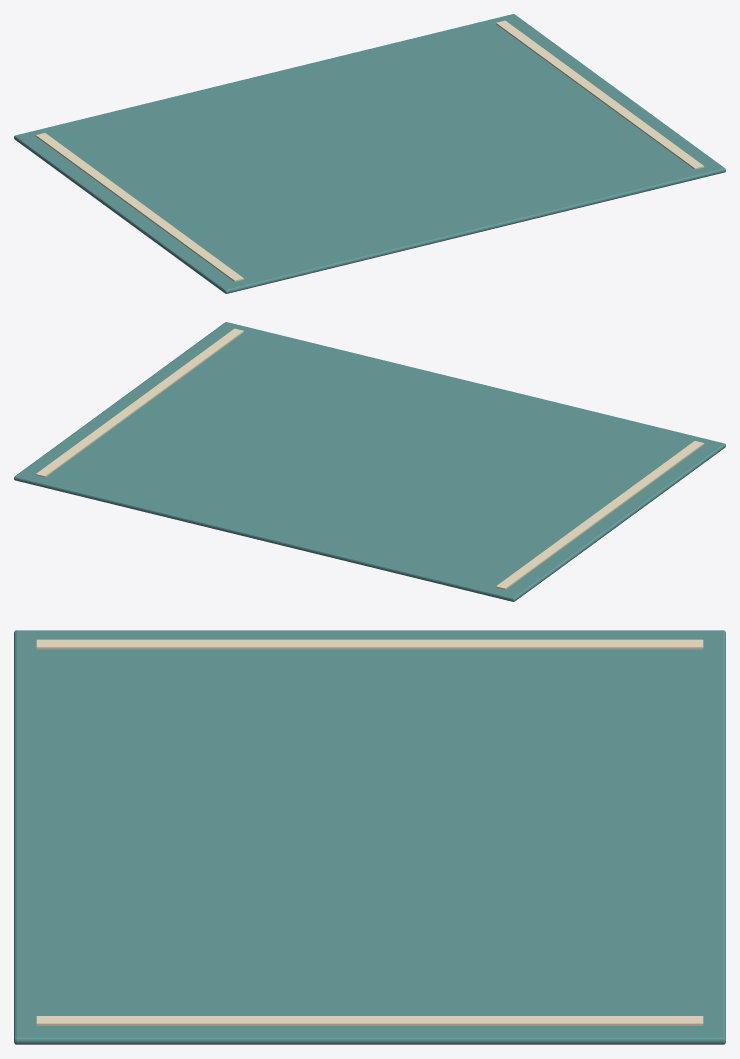
Rendered from bedroom_rug.glb.
3 views of the same model, one above another, from view 1: azimuth 30°, elevation 25°; view 2: azimuth 150°, elevation 25°; view 3: azimuth 270°, elevation 25° (orthographic). The views are drawn at different scales.
Visible parts, largest first — view 1: bedroom_rug_Mesh; view 2: bedroom_rug_Mesh; view 3: bedroom_rug_Mesh.
Part boxes in pixels (x1,y1,x2,y2): bedroom_rug_Mesh: [14, 14, 725, 293]; bedroom_rug_Mesh: [14, 322, 725, 601]; bedroom_rug_Mesh: [14, 630, 725, 1044].
Size of the model in its own units: 3.2 by 0.0335 by 2.35.
